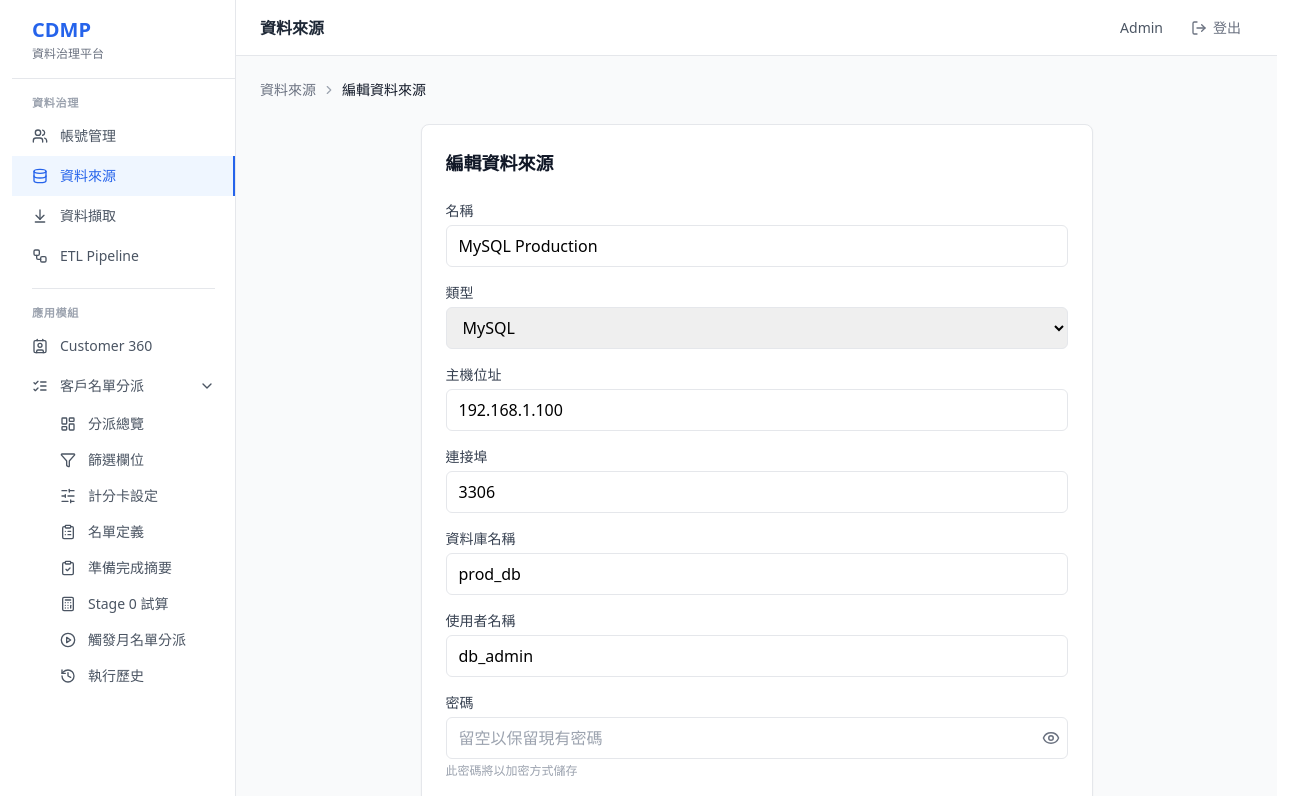
Test: EditDatasourcePage › 成功提交 › 提交成功後顯示 Toast 並導向 /datasources
The width and height of the screenshot is (1292, 796).
Expected: the field labelled "名稱" holds "MySQL Production", top-left (446, 225), bottom-right (1068, 267)
// Modify a field and submit
Replace the text in the field labelled "主機位址" with "new-host.com". click: {"x": 756, "y": 410}
box: top-left (446, 389), bottom-right (1068, 431)
(page scrolled)
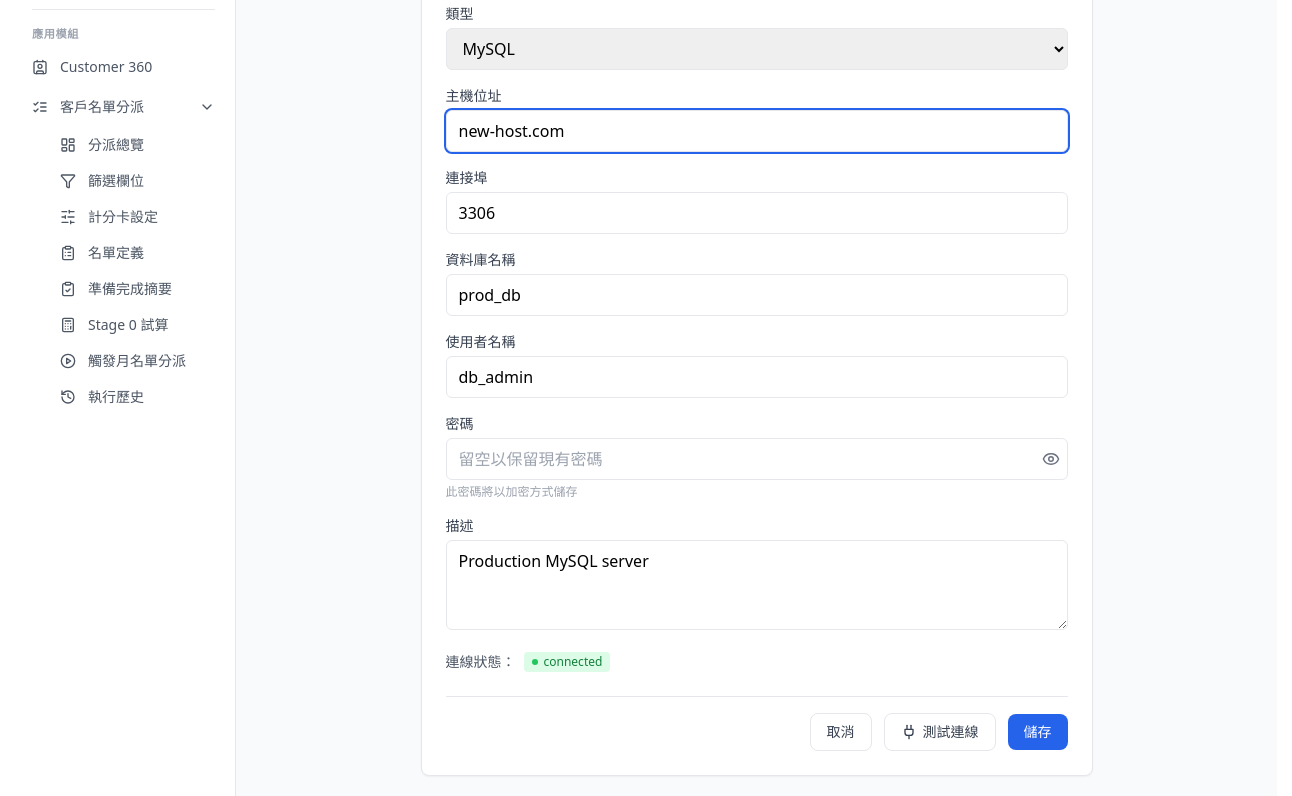
Click the button "儲存". click: {"x": 1038, "y": 732}
box: top-left (1008, 714), bottom-right (1068, 750)
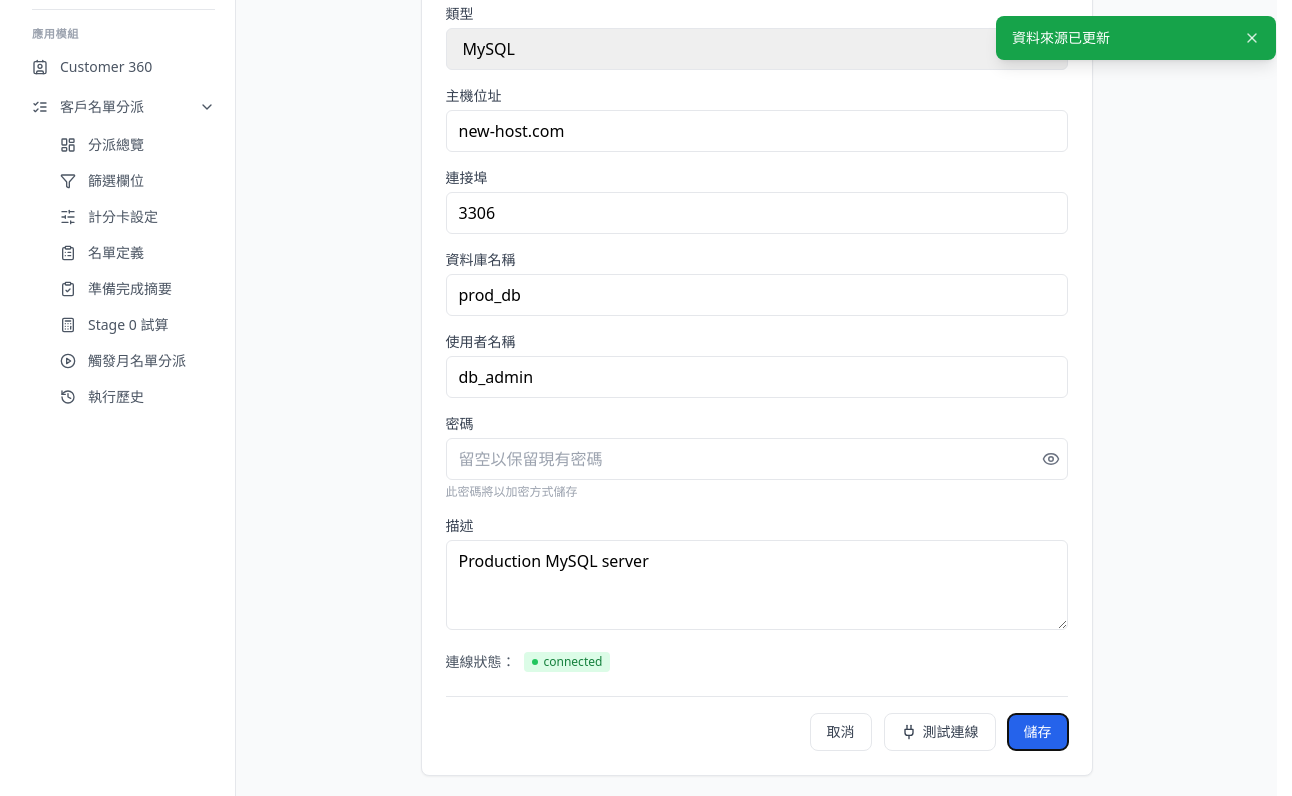
Expected: the text "資料來源已更新" is shown, top-left (1012, 28), bottom-right (1110, 47)
